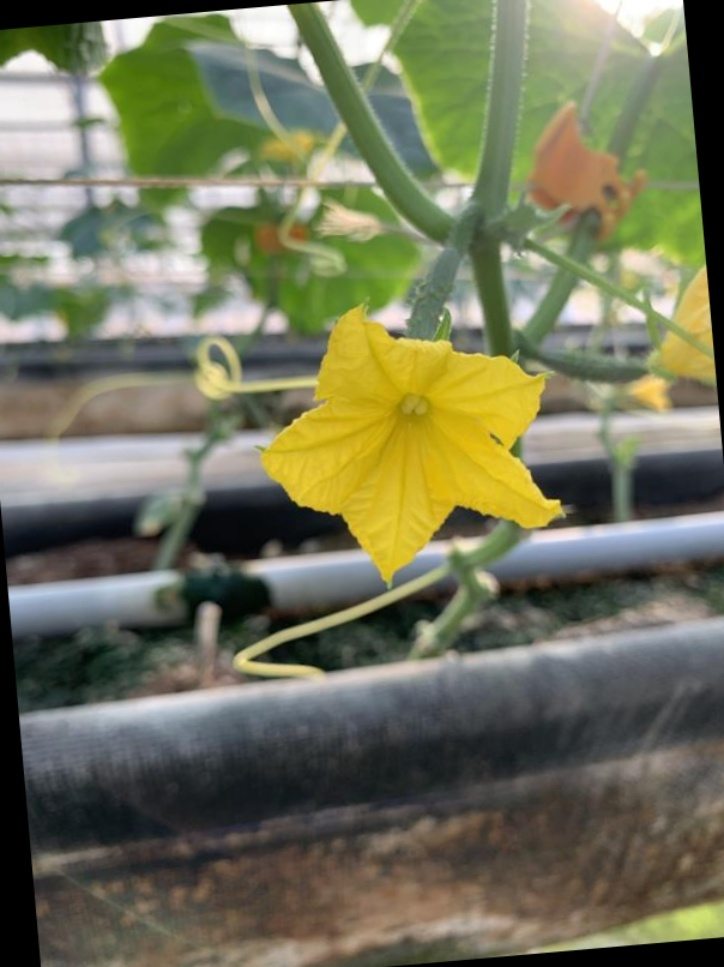flowering: (243, 225, 572, 597)
